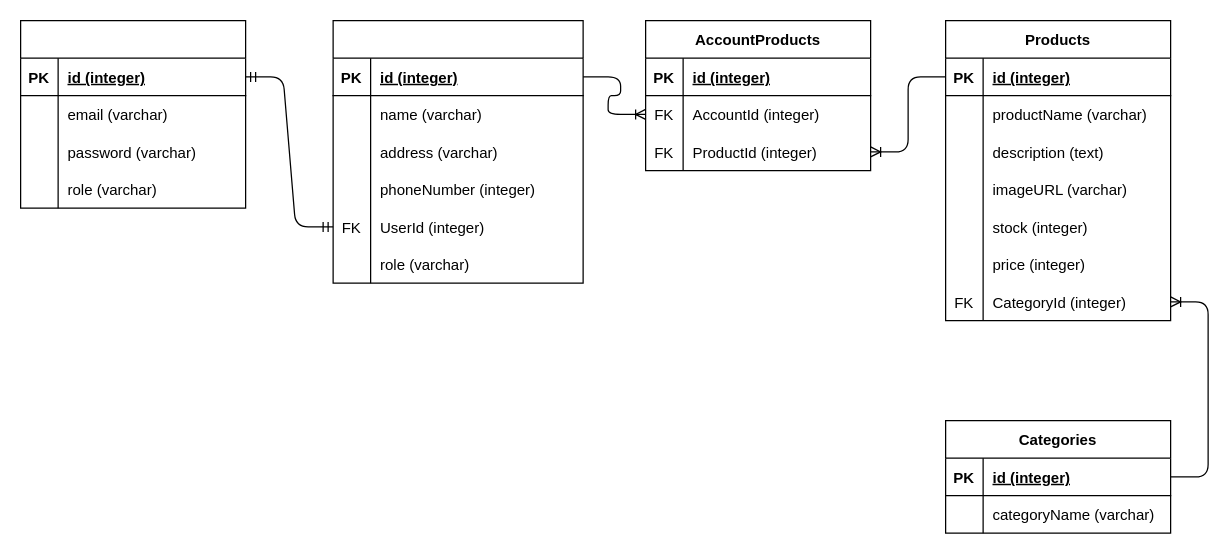
The diagram is 1229 pixels wide and 554 high, and some of its shapes have lost their labels. The shapes that lost their labels are listed below. From the top down, each one's box as (x1, y1, x2, y2) in pixels, then its label:
(19, 19, 246, 208): Users
(332, 19, 583, 283): Accounts
